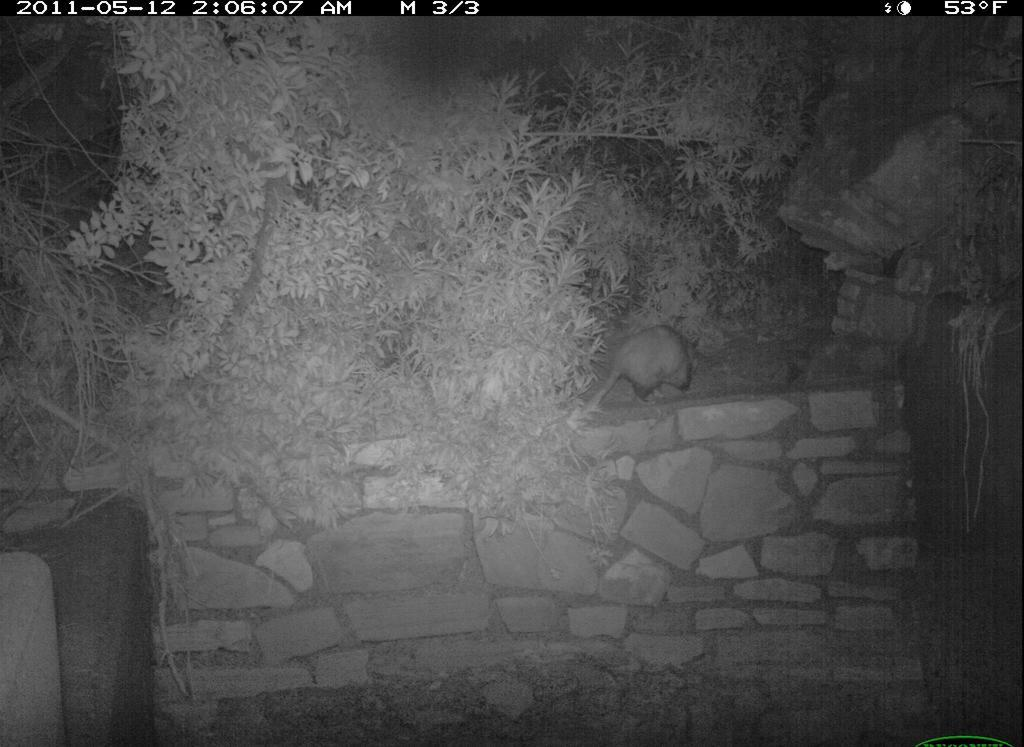opossum: (557, 322, 703, 423)
